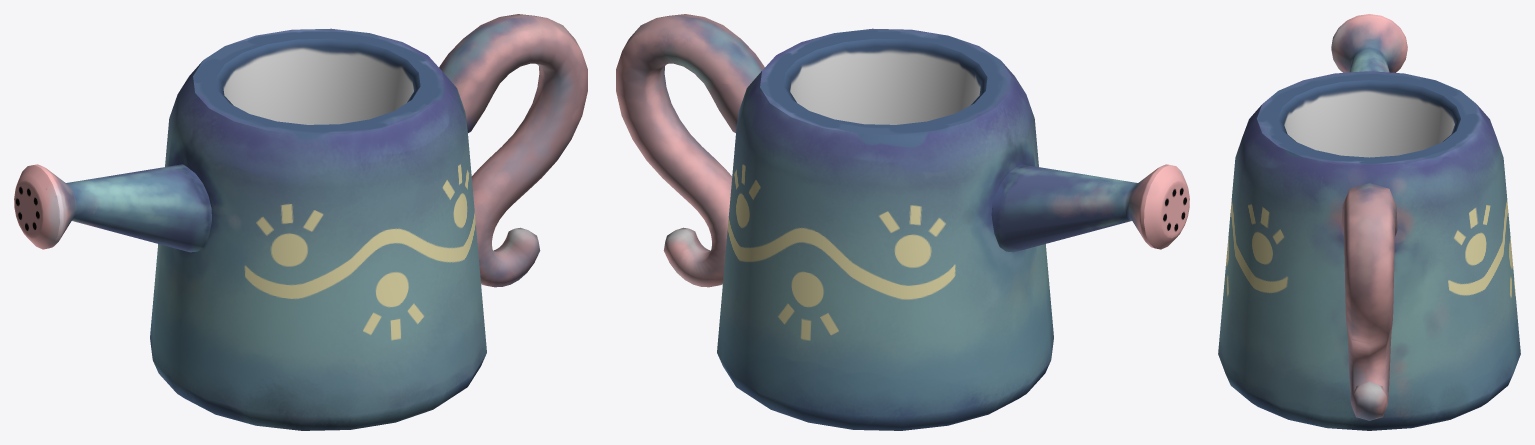
Rendered from watering can.fbx.
3 renders of one model, left to right at view 1: azimuth 30°, elevation 25°; view 2: azimuth 150°, elevation 25°; view 3: azimuth 270°, elevation 25°, orthographic. The views are drawn at different scales.
Parts seen in each view (by area): view 1: waterCan; view 2: waterCan; view 3: waterCan.
Part boxes in pixels (x1,y1,x2,y2): waterCan: [14, 14, 587, 430]; waterCan: [616, 14, 1189, 430]; waterCan: [1218, 14, 1520, 430].
Size of the model in its own units: 0.5816 by 0.2997 by 0.3073.
